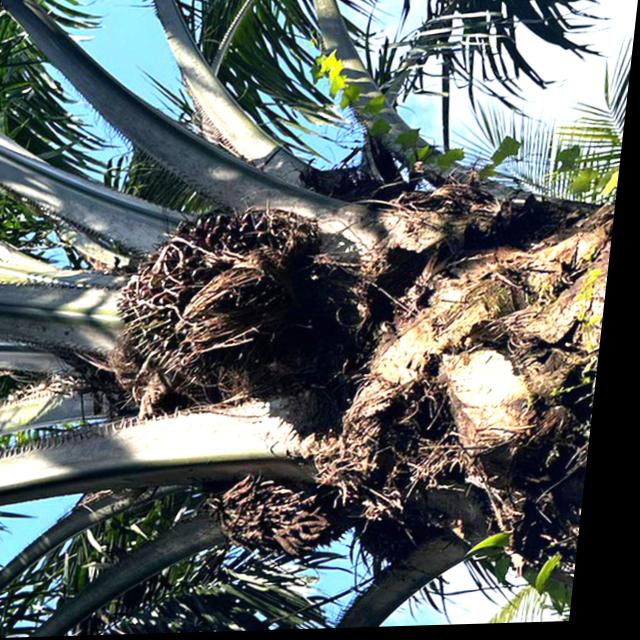unripe: (98, 192, 349, 439)
